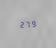nine: (31, 19, 36, 27)
seven: (25, 20, 30, 27)
two: (18, 20, 23, 28)
